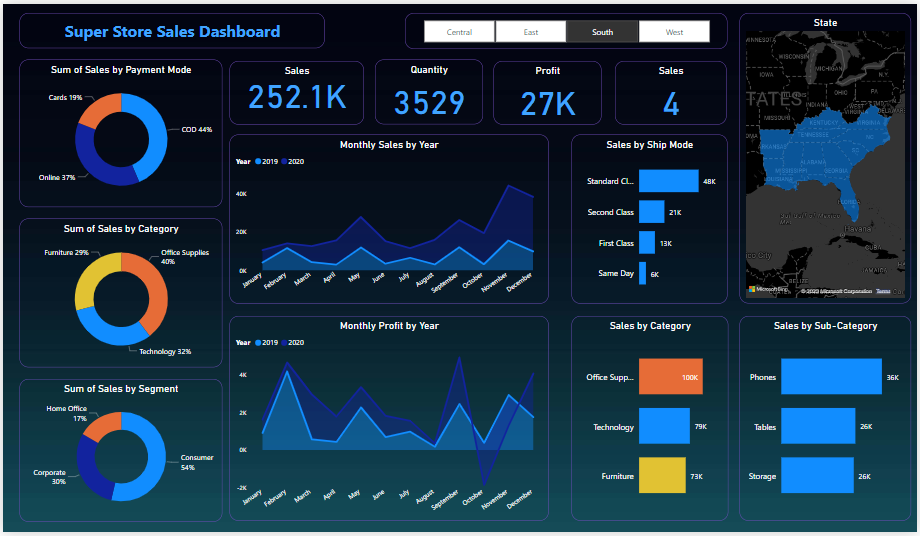

This screenshot's page, from the dashboard's own definition file:
{"tool":"powerbi","page":{"name":"Page 1","canvas":[1522,880],"ordinal":0},"visuals":[{"type":"clusteredBarChart","title":"Sales by Category","fields":{"Category":["SuperStore_Sales_Dataset (2).Category"],"Y":["Sum(SuperStore_Sales_Dataset (2).Sales)"]},"box":[946.2,520,261.2,341.2],"z":0},{"type":"clusteredBarChart","title":"Sales by Sub-Category","fields":{"Y":["Sum(SuperStore_Sales_Dataset (2).Sales)"],"Category":["SuperStore_Sales_Dataset (2).Sub-Category"]},"box":[1226.2,520,286.2,341.2],"z":1000},{"type":"clusteredBarChart","title":"Sales by Ship Mode","fields":{"Y":["Sum(SuperStore_Sales_Dataset (2).Sales)"],"Category":["SuperStore_Sales_Dataset (2).Ship Mode"]},"box":[946.7,216.7,260,281.7],"z":2000},{"type":"stackedAreaChart","title":"Monthly Sales by Year","fields":{"Y":["Sum(SuperStore_Sales_Dataset (2).Sales)"],"Series":["SuperStore_Sales_Dataset (2).Order Date.Variation.Date Hierarchy.Year"],"Category":["SuperStore_Sales_Dataset (2).Order Date.Variation.Date Hierarchy.Month","SuperStore_Sales_Dataset (2).Order Date.Variation.Date Hierarchy.Day"]},"box":[378.3,216.7,531.7,281.7],"z":3000},{"type":"stackedAreaChart","title":"Monthly Profit by Year","fields":{"Series":["SuperStore_Sales_Dataset (2).Order Date.Variation.Date Hierarchy.Year"],"Category":["SuperStore_Sales_Dataset (2).Order Date.Variation.Date Hierarchy.Month","SuperStore_Sales_Dataset (2).Order Date.Variation.Date Hierarchy.Day"],"Y":["Sum(SuperStore_Sales_Dataset (2).Profit)"]},"box":[378.6,519.6,532.1,341.1],"z":4000},{"type":"filledMap","fields":{"Category":["SuperStore_Sales_Dataset (2).State"]},"box":[1226.8,14.3,285.7,483.9],"z":5000},{"type":"donutChart","fields":{"Category":["SuperStore_Sales_Dataset (2).Segment"],"Y":["Sum(SuperStore_Sales_Dataset (2).Sales)"]},"box":[28,624,338,238],"z":6000},{"type":"slicer","fields":{"Values":["SuperStore_Sales_Dataset (2).Region"]},"box":[670,15,537.5,60],"z":8000},{"type":"textbox","box":[26.2,15,508.8,58.8],"z":9000},{"type":"card","title":"Sales","fields":{"Values":["Sum(SuperStore_Sales_Dataset (2).Sales)"]},"box":[378,94,224,106],"z":10000},{"type":"card","title":"Quantity","fields":{"Values":["Sum(SuperStore_Sales_Dataset (2).Quantity)"]},"box":[620,92,180,108],"z":11000},{"type":"card","title":"Profit","fields":{"Values":["Sum(SuperStore_Sales_Dataset (2).Profit)"]},"box":[818,94,180,106],"z":12000},{"type":"card","title":"Sales","fields":{"Values":["Avg(SuperStore_Sales_Dataset (2).AvgDelivery)"]},"box":[1020,94,186,106],"z":13000},{"type":"donutChart","fields":{"Category":["SuperStore_Sales_Dataset (2).Payment Mode"],"Y":["Sum(SuperStore_Sales_Dataset (2).Sales)"]},"box":[28,92,338,246],"z":13001},{"type":"donutChart","fields":{"Y":["Sum(SuperStore_Sales_Dataset (2).Sales)"],"Category":["SuperStore_Sales_Dataset (2).Category"]},"box":[28,358,338,248],"z":13002}]}

Visuals, with their boxes in screenshot pixels (x1, y1, x2, y2), scaled from the page's 1522x880 canvas onto the 920x536 screenshot:
"Sales by Category" clusteredBarChart: rect(572, 317, 730, 525)
"Sales by Sub-Category" clusteredBarChart: rect(741, 317, 914, 525)
"Sales by Ship Mode" clusteredBarChart: rect(572, 132, 729, 304)
"Monthly Sales by Year" stackedAreaChart: rect(229, 132, 550, 304)
"Monthly Profit by Year" stackedAreaChart: rect(229, 316, 550, 524)
filledMap - SuperStore_Sales_Dataset (2).State: rect(742, 9, 914, 303)
donutChart - SuperStore_Sales_Dataset (2).Segment x Sum(SuperStore_Sales_Dataset (2).Sales): rect(17, 380, 221, 525)
slicer - SuperStore_Sales_Dataset (2).Region: rect(405, 9, 730, 46)
textbox: rect(16, 9, 323, 45)
"Sales" card: rect(228, 57, 364, 122)
"Quantity" card: rect(375, 56, 484, 122)
"Profit" card: rect(494, 57, 603, 122)
"Sales" card: rect(617, 57, 729, 122)
donutChart - SuperStore_Sales_Dataset (2).Payment Mode x Sum(SuperStore_Sales_Dataset (2).Sales): rect(17, 56, 221, 206)
donutChart - Sum(SuperStore_Sales_Dataset (2).Sales) x SuperStore_Sales_Dataset (2).Category: rect(17, 218, 221, 369)
